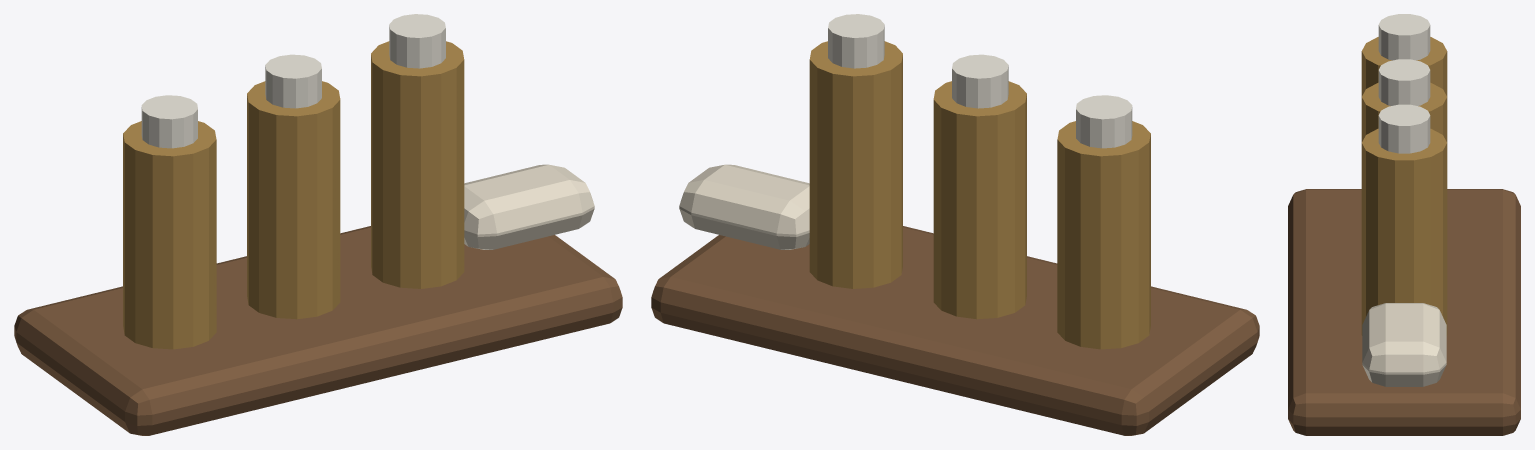
File: hotel_amenities.glb
3 renders of one model, left to right at view 1: azimuth 30°, elevation 25°; view 2: azimuth 150°, elevation 25°; view 3: azimuth 270°, elevation 25°, orthographic. The views are drawn at different scales.
Visible parts, largest first — view 1: AmenitiesTray, Bottle_2, Bottle_1, Bottle_0, Soap, BottleCap_2, BottleCap_1, BottleCap_0; view 2: AmenitiesTray, Bottle_2, Bottle_1, Bottle_0, Soap, BottleCap_2, BottleCap_1, BottleCap_0; view 3: AmenitiesTray, Bottle_2, Soap, BottleCap_2, BottleCap_1, BottleCap_0, Bottle_0, Bottle_1.
Boxes of the visible parts, x1,y1,x2,y2 form: AmenitiesTray: [14, 226, 622, 435]; Bottle_2: [371, 41, 464, 288]; Bottle_1: [247, 81, 340, 319]; Bottle_0: [123, 121, 216, 349]; Soap: [464, 164, 594, 249]; BottleCap_2: [389, 14, 445, 68]; BottleCap_1: [265, 54, 321, 108]; BottleCap_0: [141, 95, 197, 148]; AmenitiesTray: [651, 226, 1259, 435]; Bottle_2: [809, 41, 902, 288]; Bottle_1: [933, 81, 1026, 319]; Bottle_0: [1057, 121, 1150, 349]; Soap: [679, 164, 809, 249]; BottleCap_2: [828, 14, 884, 68]; BottleCap_1: [952, 54, 1008, 108]; BottleCap_0: [1076, 95, 1132, 148]; AmenitiesTray: [1288, 189, 1520, 435]; Bottle_2: [1361, 128, 1447, 335]; Soap: [1362, 303, 1446, 386]; BottleCap_2: [1378, 104, 1430, 153]; BottleCap_1: [1378, 59, 1430, 105]; BottleCap_0: [1378, 14, 1430, 60]; Bottle_0: [1361, 37, 1447, 96]; Bottle_1: [1361, 82, 1447, 142].
Bounding box in the file's own units: 0.4125 × 0.2235 × 0.18.
